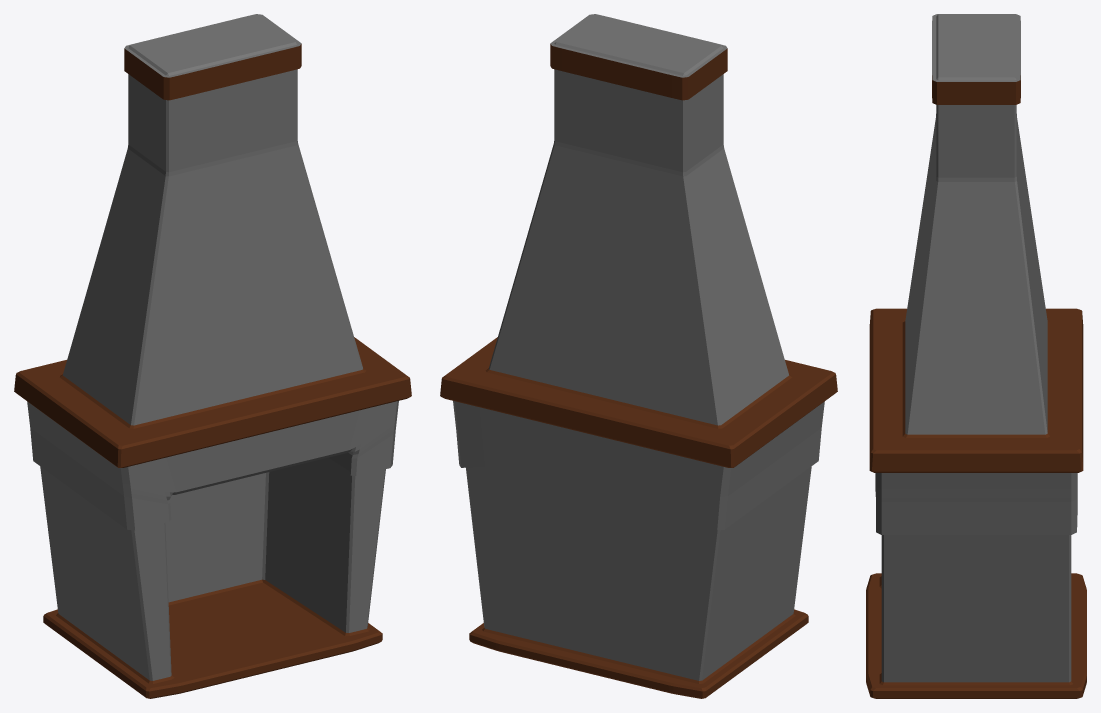
The model's file is Fireplace.fbx.
The picture shows the model from 3 angles, left to right: view 1: azimuth 30°, elevation 25°; view 2: azimuth 150°, elevation 25°; view 3: azimuth 270°, elevation 25°; orthographic projection.
Parts seen in each view (by area): view 1: Cube.060; view 2: Cube.060; view 3: Cube.060.
Boxes of the visible parts, x1,y1,x2,y2 form: Cube.060: (14,14,411,698); Cube.060: (440,14,837,698); Cube.060: (866,14,1086,698).
Size of the model in its own units: 371 by 710 by 239.
